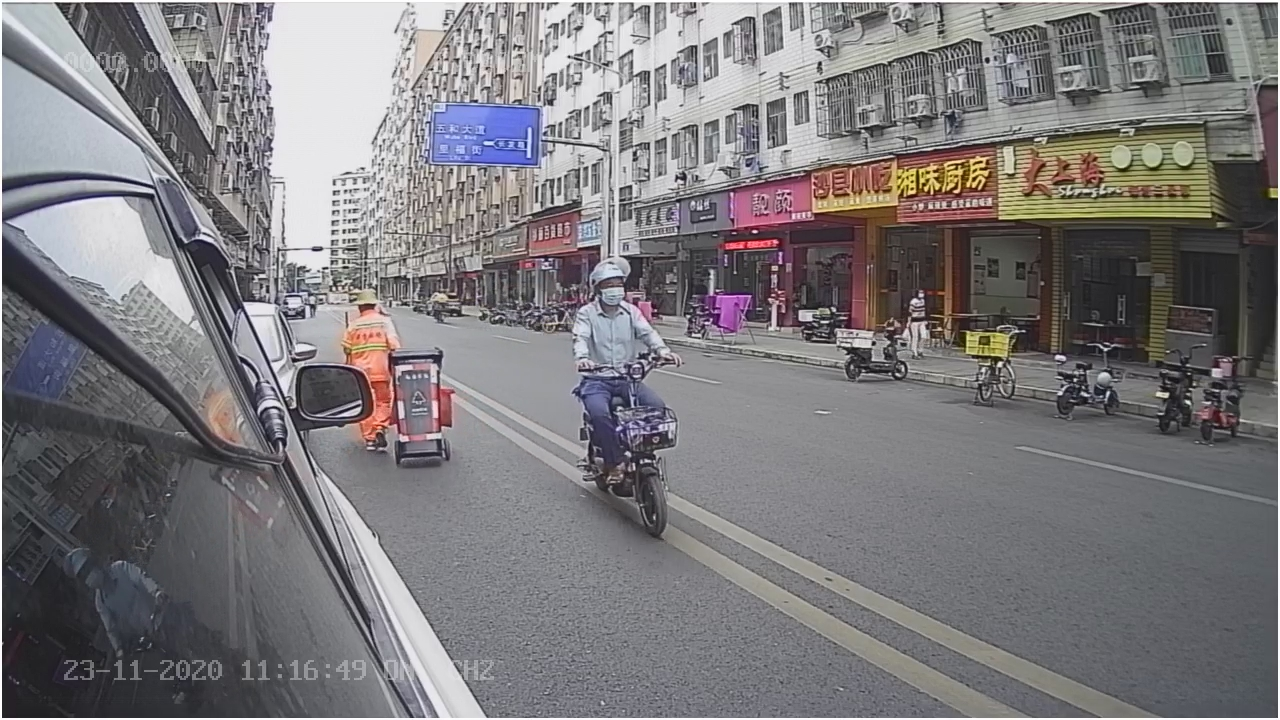person: (562, 252, 679, 357)
